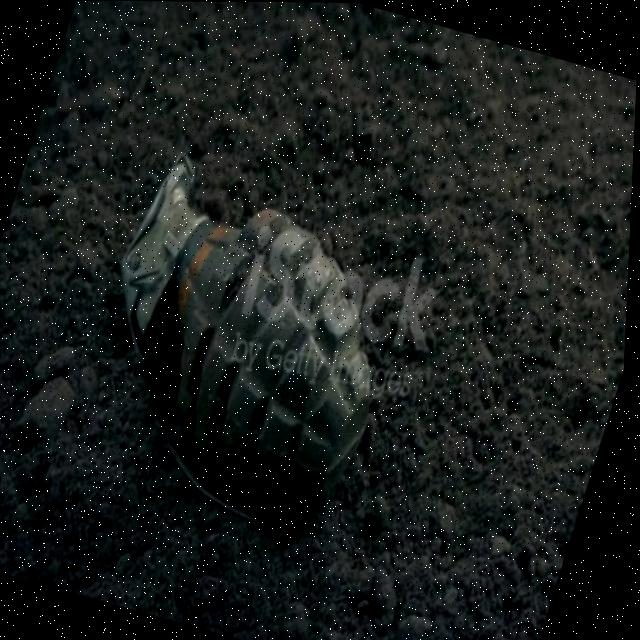grenade: (43, 122, 445, 559)
